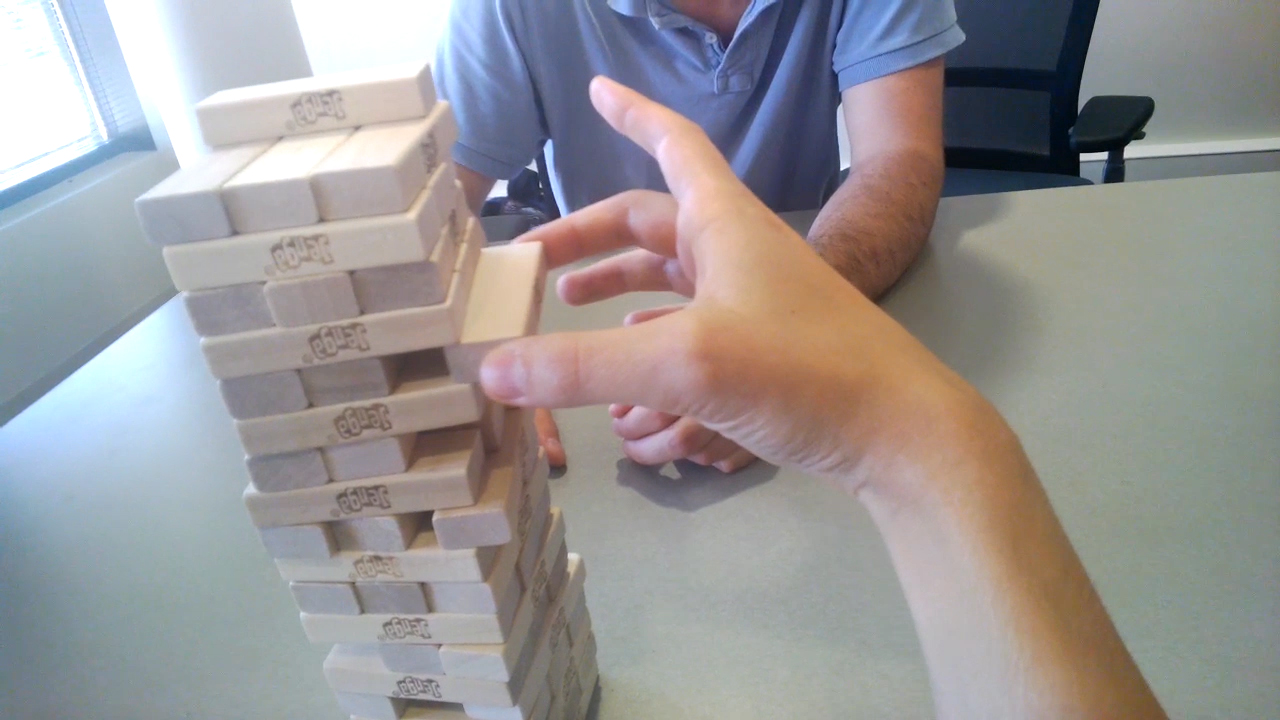hand: (489, 88, 985, 476), (613, 411, 745, 467), (525, 403, 559, 461)
